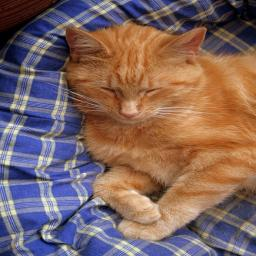catnose: (116, 108, 144, 120)
